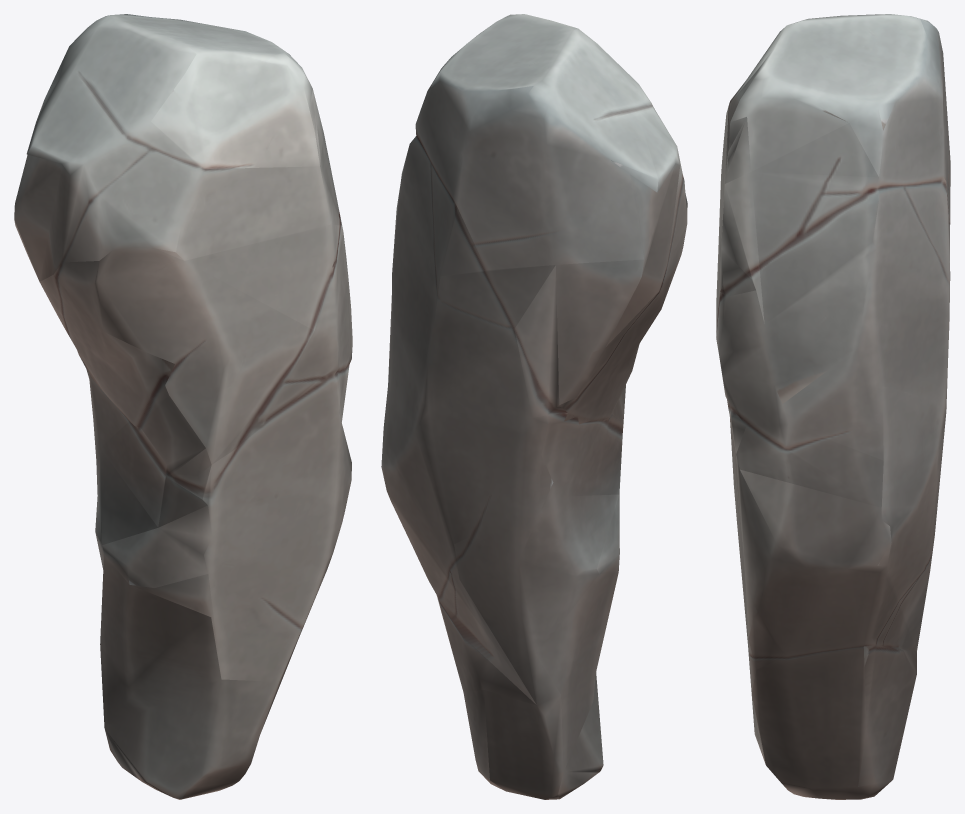
Rendered from ROK0110044.fbx.
3 views of the same model, side by side, from view 1: azimuth 30°, elevation 25°; view 2: azimuth 150°, elevation 25°; view 3: azimuth 270°, elevation 25° (orthographic).
Parts seen in each view (by area): view 1: smROK0110044; view 2: smROK0110044; view 3: smROK0110044.
Part boxes in pixels (<box>): smROK0110044: <box>14,14,352,799</box>; smROK0110044: <box>381,14,687,799</box>; smROK0110044: <box>716,14,950,799</box>.
Size of the model in its own units: 75.65 by 193 by 54.4.
1 material, 1 textured.
